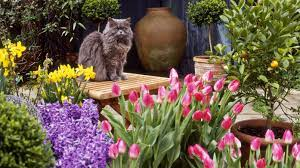cat: (76, 18, 134, 82)
